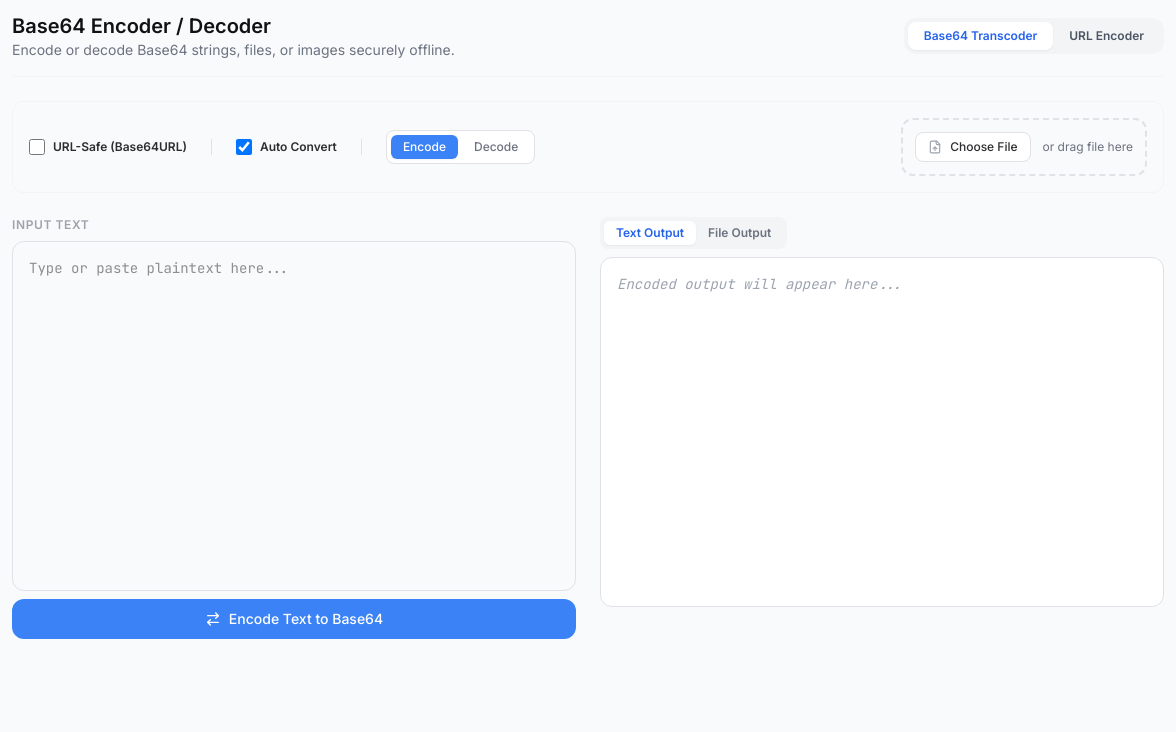
Base64UrlTool Component › performs URL-safe encoding when toggle is checked
Step 1. Type "hello?" into the text box with placeholder "Type or paste plaintext here..." → (294, 416), box [12, 241, 576, 591]
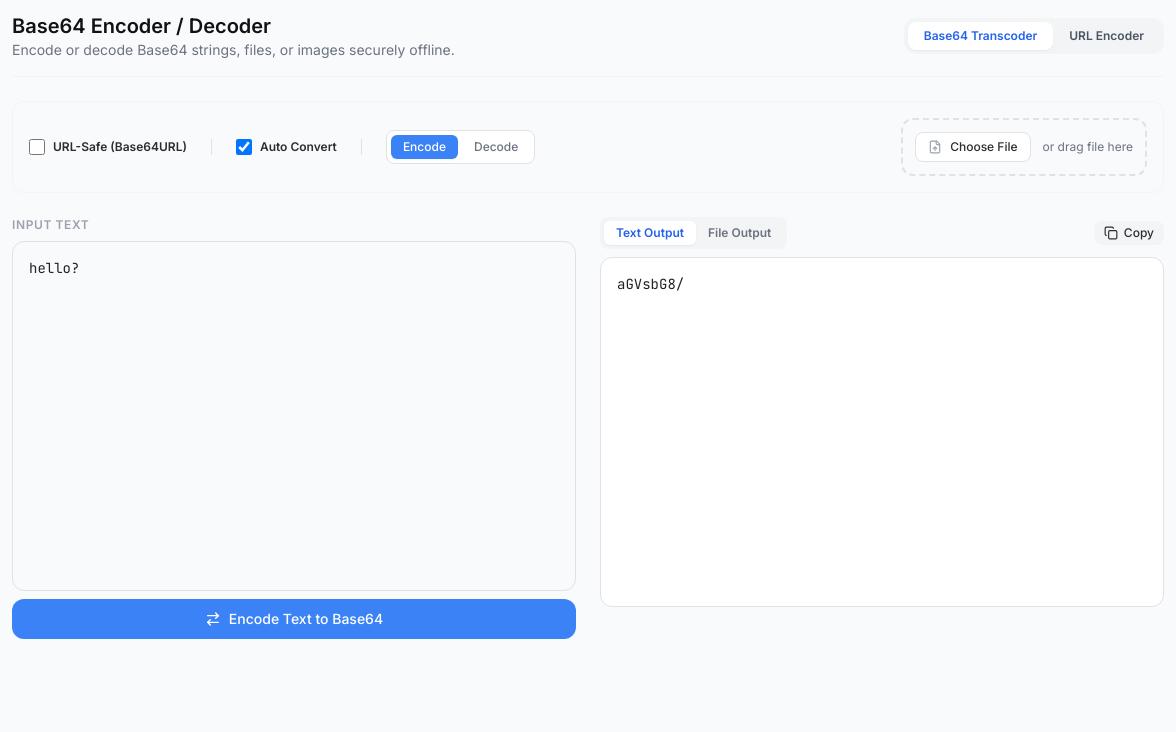
Now the text "aGVsbG8/" is shown, box [600, 257, 1164, 607]
Step 2. Click the checkbox labelled "URL-Safe (Base64URL)" → click(37, 147), box [29, 139, 45, 155]
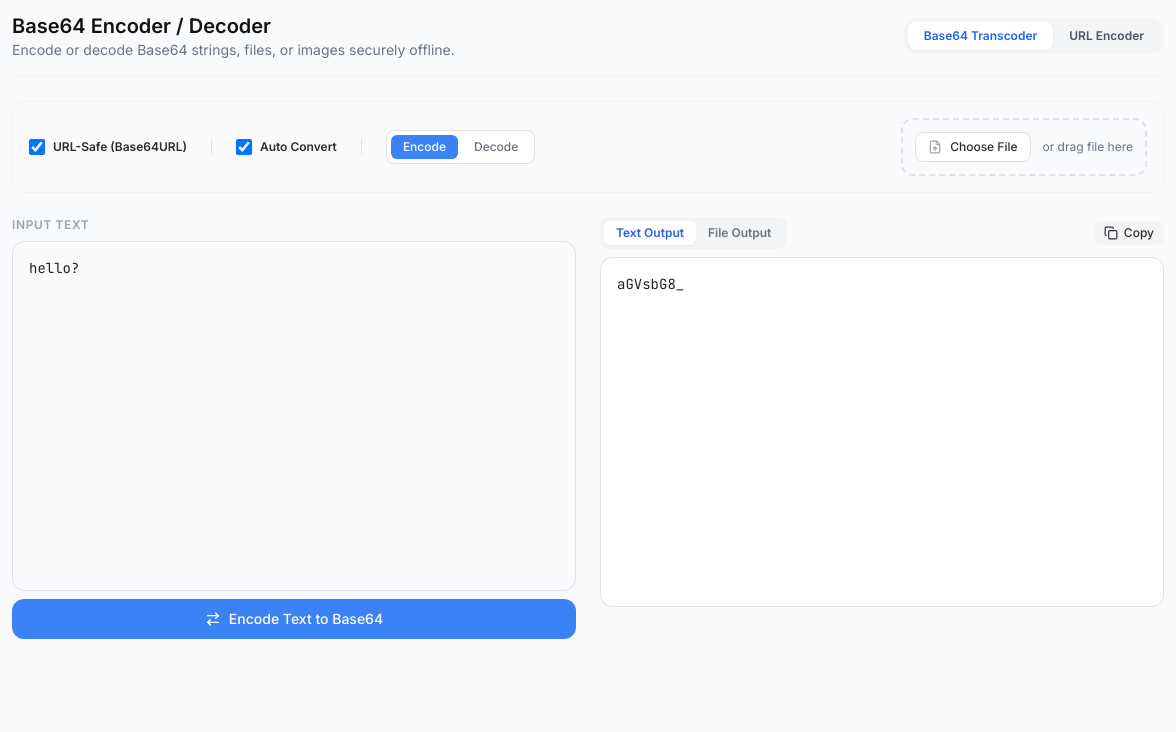
Now the text "aGVsbG8_" is shown, box [600, 257, 1164, 607]
